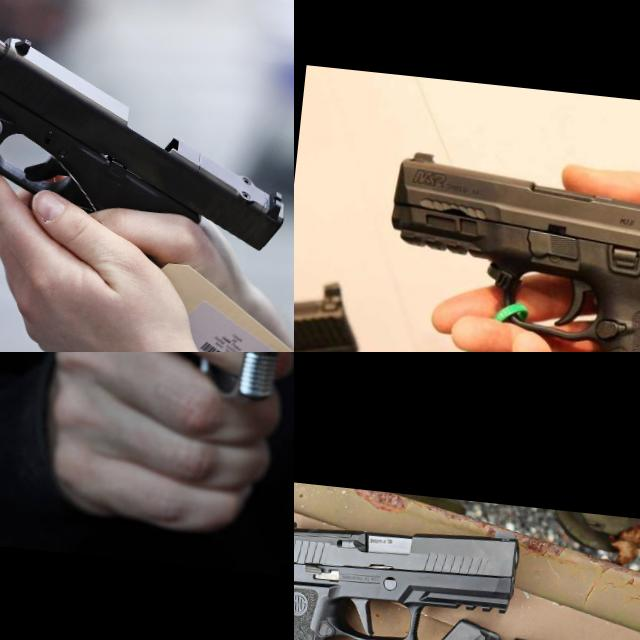handgun: (0, 0, 294, 256), (359, 142, 640, 352), (294, 501, 523, 640), (146, 352, 294, 496)
